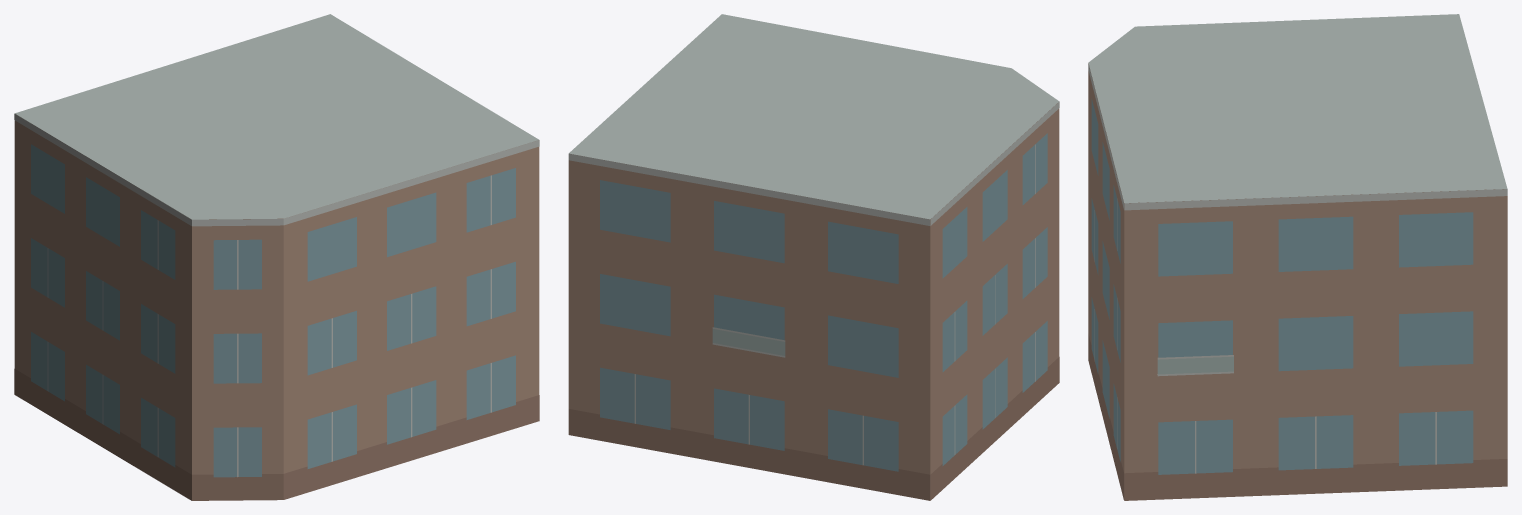
File: survey-upis-32567462.glb
3 renders of one model, left to right at view 1: azimuth 30°, elevation 25°; view 2: azimuth 150°, elevation 25°; view 3: azimuth 270°, elevation 25°, orthographic. The views are drawn at different scales.
Parts seen in each view (by area): view 1: survey-upis-32567462.tmp; view 2: survey-upis-32567462.tmp; view 3: survey-upis-32567462.tmp.
Boxes of the visible parts, box(x1,y1,x2,y2) form: survey-upis-32567462.tmp: box(14, 14, 539, 500); survey-upis-32567462.tmp: box(568, 14, 1059, 500); survey-upis-32567462.tmp: box(1088, 14, 1507, 500).
Bounding box in the file's own units: 13.92 × 10.2 × 13.03.
